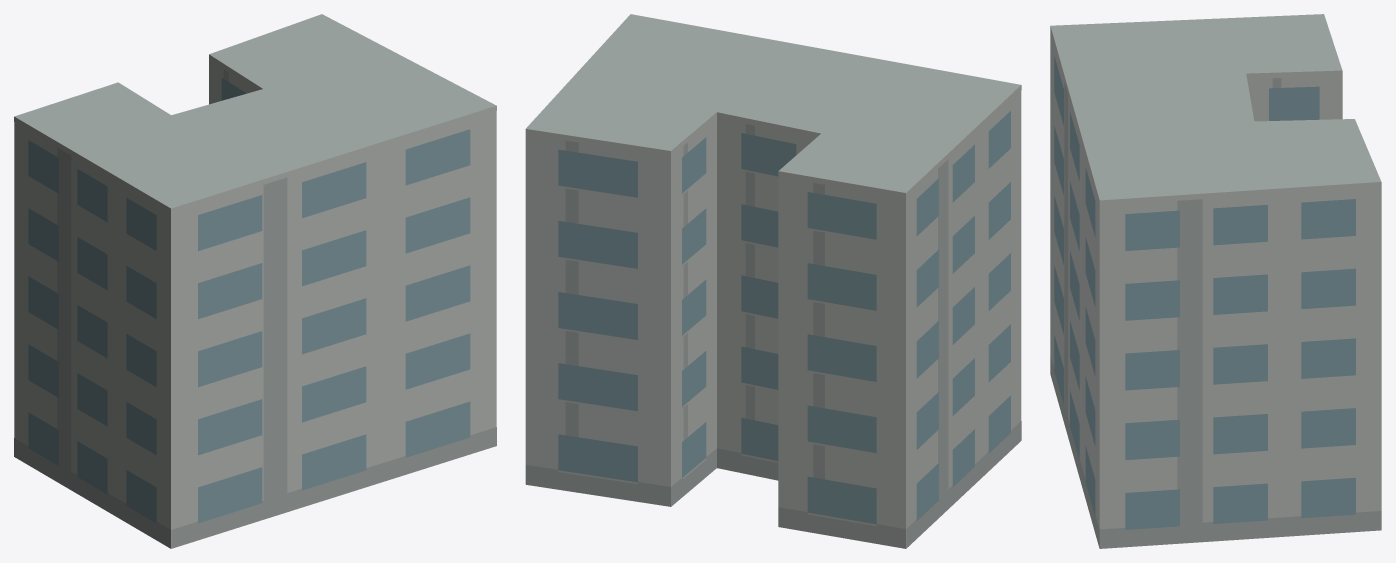
The model's file is survey-upis-32490646.glb.
3 renders of one model, left to right at view 1: azimuth 30°, elevation 25°; view 2: azimuth 150°, elevation 25°; view 3: azimuth 270°, elevation 25°, orthographic. The views are drawn at different scales.
Parts seen in each view (by area): view 1: survey-upis-32490646.tmp; view 2: survey-upis-32490646.tmp; view 3: survey-upis-32490646.tmp.
Boxes of the visible parts, x1=… form: survey-upis-32490646.tmp: x1=14, y1=14, x2=496, y2=548; survey-upis-32490646.tmp: x1=525, y1=14, x2=1021, y2=548; survey-upis-32490646.tmp: x1=1050, y1=14, x2=1381, y2=548.
Size of the model in its own units: 17.5 by 15.25 by 13.14.
